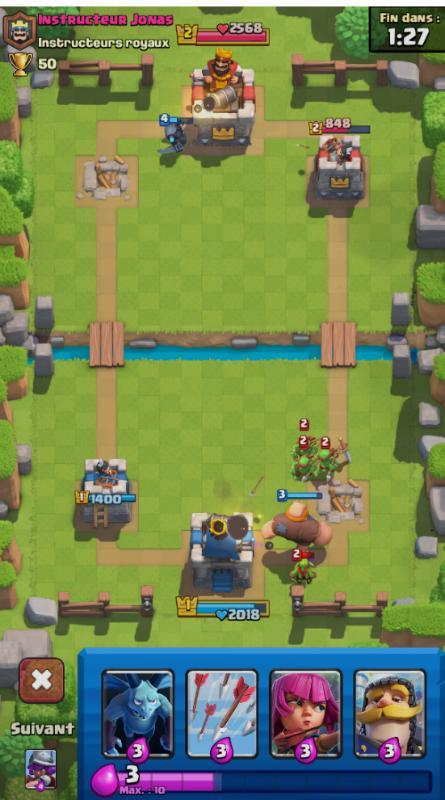enemy_spear_goblins: (287, 549, 319, 586), (313, 445, 345, 478), (288, 445, 319, 475), (292, 420, 320, 449)
player_giant: (258, 494, 334, 554)
player_mini_pekka: (153, 112, 190, 156)
